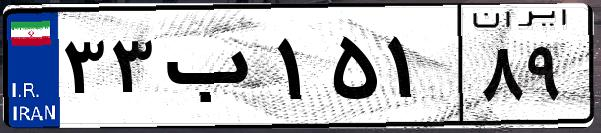1: (270, 28, 330, 110), (385, 28, 445, 110)
3: (57, 26, 110, 100), (110, 28, 158, 98)
5: (330, 28, 385, 110)
8: (475, 38, 525, 113)
9: (525, 38, 570, 115)
ب: (158, 20, 270, 120)
